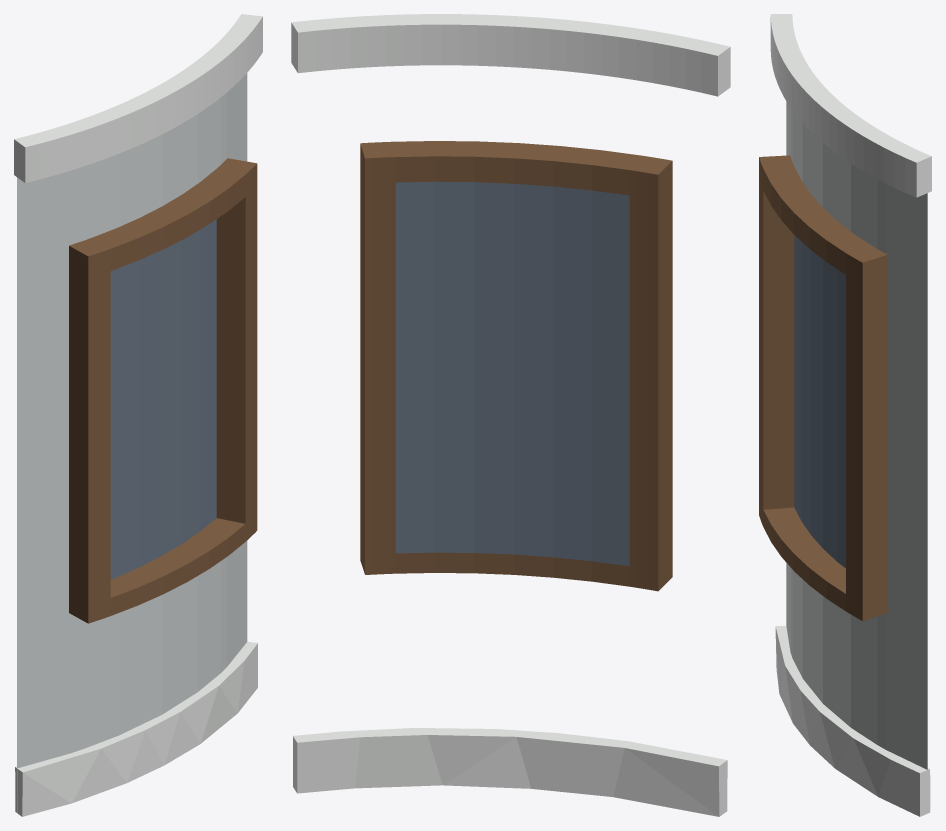
The model's file is ArcWindow_R2_A45.glb.
3 views of the same model, side by side, from view 1: azimuth 30°, elevation 25°; view 2: azimuth 150°, elevation 25°; view 3: azimuth 270°, elevation 25° (orthographic). The views are drawn at different scales.
Parts seen in each view (by area): view 1: PBK_Modern_ArcWindow_R2_A45_Exterior_Surface.001, PBK_Continuous_Frame_Modern_Window.003, PBK_Arc_PBK_glass.002, PBK_Arc_PBK_base_trim.007, PBK_floor_band.048; view 2: PBK_Arc_PBK_glass.002, PBK_Continuous_Frame_Modern_Window.003, PBK_Arc_PBK_base_trim.007, PBK_floor_band.048; view 3: PBK_Modern_ArcWindow_R2_A45_Exterior_Surface.001, PBK_Continuous_Frame_Modern_Window.003, PBK_Arc_PBK_glass.002, PBK_floor_band.048, PBK_Arc_PBK_base_trim.007.
Part boxes in pixels (box(x1,y1,x2,y2)): PBK_Modern_ArcWindow_R2_A45_Exterior_Surface.001: box(17, 73, 247, 812); PBK_Continuous_Frame_Modern_Window.003: box(69, 158, 257, 623); PBK_Arc_PBK_glass.002: box(110, 219, 216, 579); PBK_Arc_PBK_base_trim.007: box(15, 641, 257, 816); PBK_floor_band.048: box(14, 14, 262, 182); PBK_Arc_PBK_glass.002: box(395, 181, 629, 566); PBK_Continuous_Frame_Modern_Window.003: box(360, 141, 672, 591); PBK_Arc_PBK_base_trim.007: box(293, 728, 727, 816); PBK_floor_band.048: box(291, 14, 730, 96); PBK_Modern_ArcWindow_R2_A45_Exterior_Surface.001: box(786, 101, 927, 769); PBK_Continuous_Frame_Modern_Window.003: box(759, 155, 887, 620); PBK_Arc_PBK_glass.002: box(794, 235, 845, 568); PBK_floor_band.048: box(770, 14, 931, 197); PBK_Arc_PBK_base_trim.007: box(775, 626, 930, 816).
Bounding box in the file's own units: 1.46 × 3 × 0.7167.
